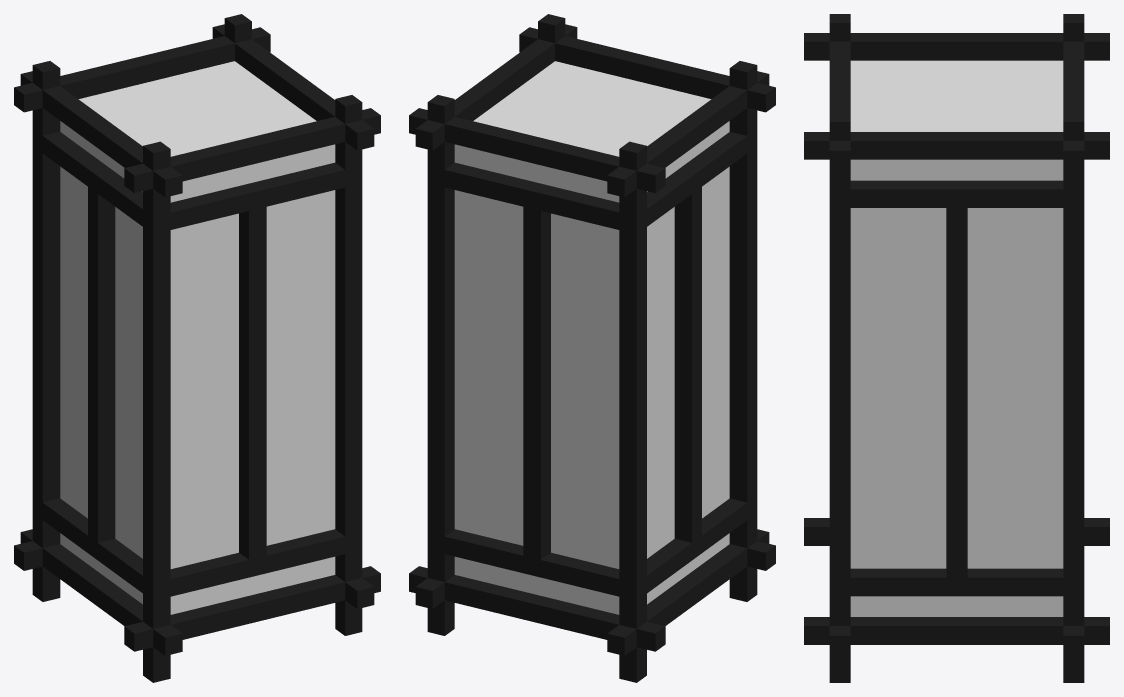
Rendered from Shrine_Lamp_2.fbx.
3 renders of one model, left to right at view 1: azimuth 30°, elevation 25°; view 2: azimuth 150°, elevation 25°; view 3: azimuth 270°, elevation 25°, orthographic. The views are drawn at different scales.
Parts seen in each view (by area): view 1: Shire_Lamp_2; view 2: Shire_Lamp_2; view 3: Shire_Lamp_2.
Boxes of the visible parts, x1=… form: Shire_Lamp_2: x1=14, y1=14, x2=380, y2=682; Shire_Lamp_2: x1=409, y1=14, x2=775, y2=682; Shire_Lamp_2: x1=804, y1=14, x2=1109, y2=682.
Size of the model in its own units: 40.63 by 83.45 by 41.25.
